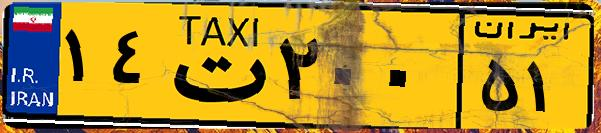0: (385, 28, 445, 110), (330, 28, 385, 110)
1: (57, 26, 110, 100), (525, 38, 570, 115)
2: (270, 28, 330, 110)
4: (110, 28, 158, 98)
5: (475, 38, 525, 113)
ت: (158, 12, 270, 120)
